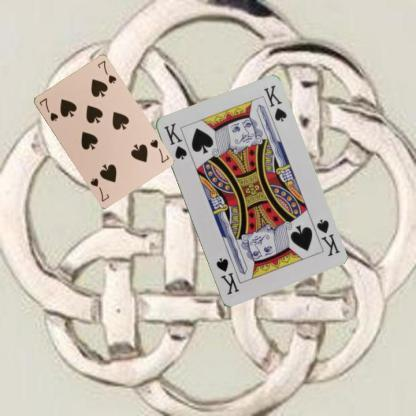7s: (147, 136, 170, 164), (36, 96, 60, 122)
Ks: (160, 120, 188, 161), (313, 216, 341, 257)
